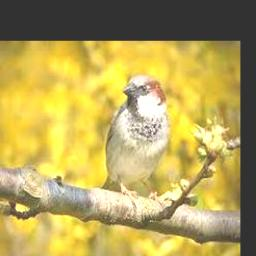Sparrow: (100, 74, 170, 199)
